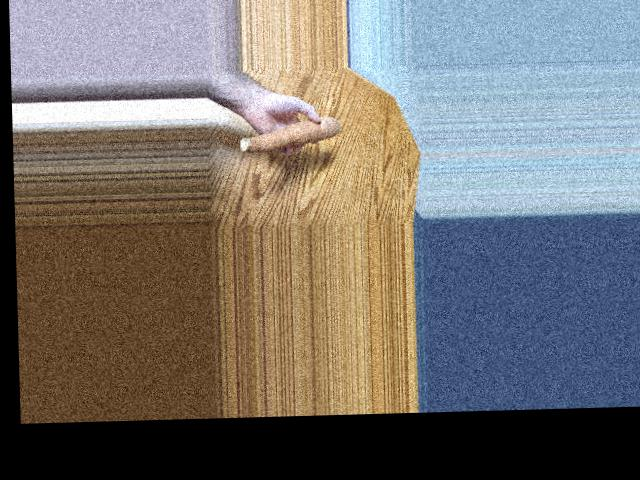sweet_potato: (242, 120, 347, 153)
